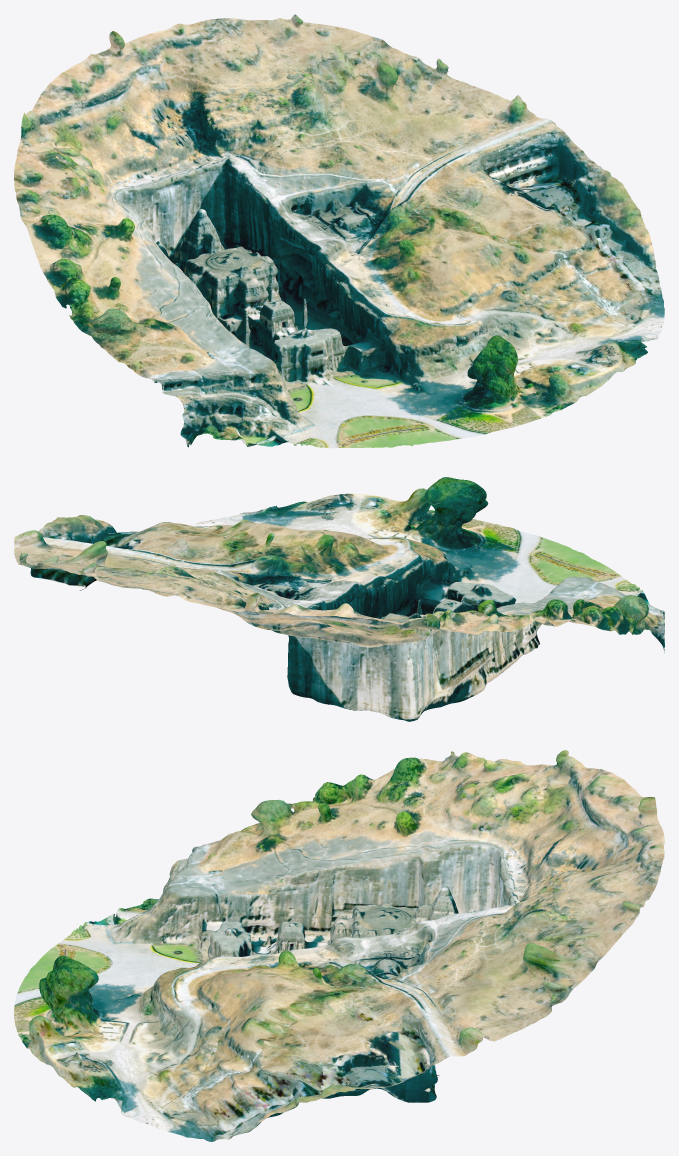
The model's file is ellora_caves.glb.
3 views of the same model, one above another, from view 1: azimuth 30°, elevation 25°; view 2: azimuth 150°, elevation 25°; view 3: azimuth 270°, elevation 25° (orthographic).
Parts seen in each view (by area): view 1: Retopo_Model; view 2: Retopo_Model; view 3: Retopo_Model.
Part boxes in pixels (x1,y1,x2,y2): Retopo_Model: [14, 14, 664, 448]; Retopo_Model: [14, 477, 664, 721]; Retopo_Model: [14, 750, 664, 1141].
Bounding box in the file's own units: 2586 × 862 × 2584.
Materials: 1 (1 with a texture image).
